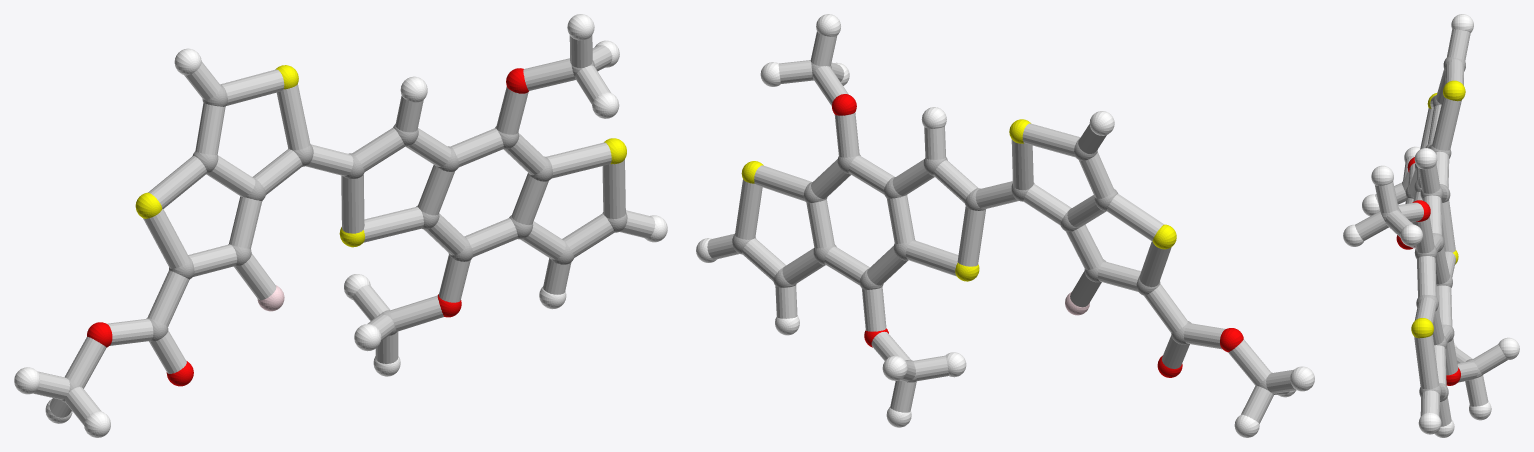
Rendered from color.glb.
3 renders of one model, left to right at view 1: azimuth 30°, elevation 25°; view 2: azimuth 150°, elevation 25°; view 3: azimuth 270°, elevation 25°, orthographic. The views are drawn at different scales.
Visible parts, largest first — view 1: grp15205, grp8689, grp1, grp7241, grp13395; view 2: grp15205, grp8689, grp1, grp7241, grp13395; view 3: grp15205, grp8689, grp1, grp7241, grp13395.
Boxes of the visible parts, <box> form: grp15205: <box>32,35,655,424</box>; grp8689: <box>14,14,667,437</box>; grp1: <box>61,60,627,402</box>; grp7241: <box>135,65,626,247</box>; grp13395: <box>87,68,528,386</box>; grp15205: <box>707,31,1296,423</box>; grp8689: <box>696,14,1314,437</box>; grp1: <box>732,63,1275,394</box>; grp7241: <box>741,119,1176,281</box>; grp13395: <box>832,94,1243,377</box>; grp15205: <box>1355,29,1507,426</box>; grp8689: <box>1343,14,1519,437</box>; grp1: <box>1381,57,1482,401</box>; grp7241: <box>1411,80,1465,338</box>; grp13395: <box>1396,157,1460,385</box>.
Size of the model in its own units: 16.76 by 9.34 by 4.69.
